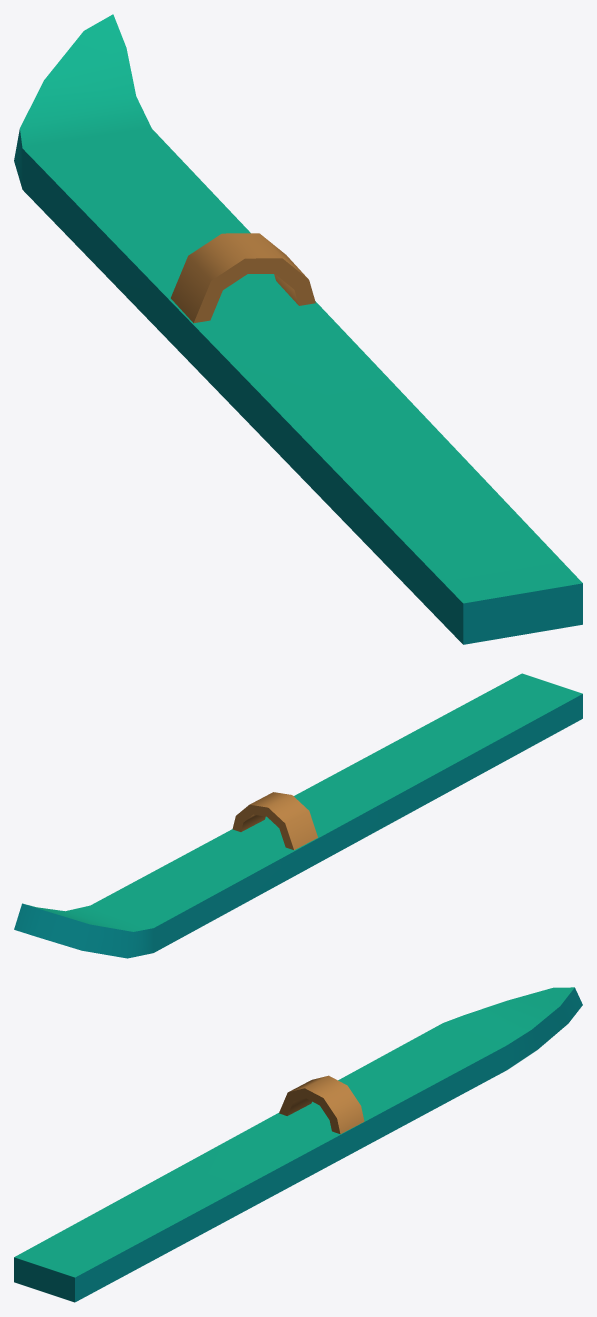
Rendered from BlizzardBeachSki.fbx.
3 views of the same model, one above another, from view 1: azimuth 30°, elevation 25°; view 2: azimuth 150°, elevation 25°; view 3: azimuth 330°, elevation 25° (orthographic). The views are drawn at different scales.
Parts seen in each view (by area): view 1: BlizzardBeachSki; view 2: BlizzardBeachSki; view 3: BlizzardBeachSki.
Part boxes in pixels (x1,y1,x2,y2): BlizzardBeachSki: [14, 14, 582, 644]; BlizzardBeachSki: [14, 673, 582, 958]; BlizzardBeachSki: [14, 987, 582, 1302].
Size of the model in its own units: 23.11 by 7.36 by 90.19.
